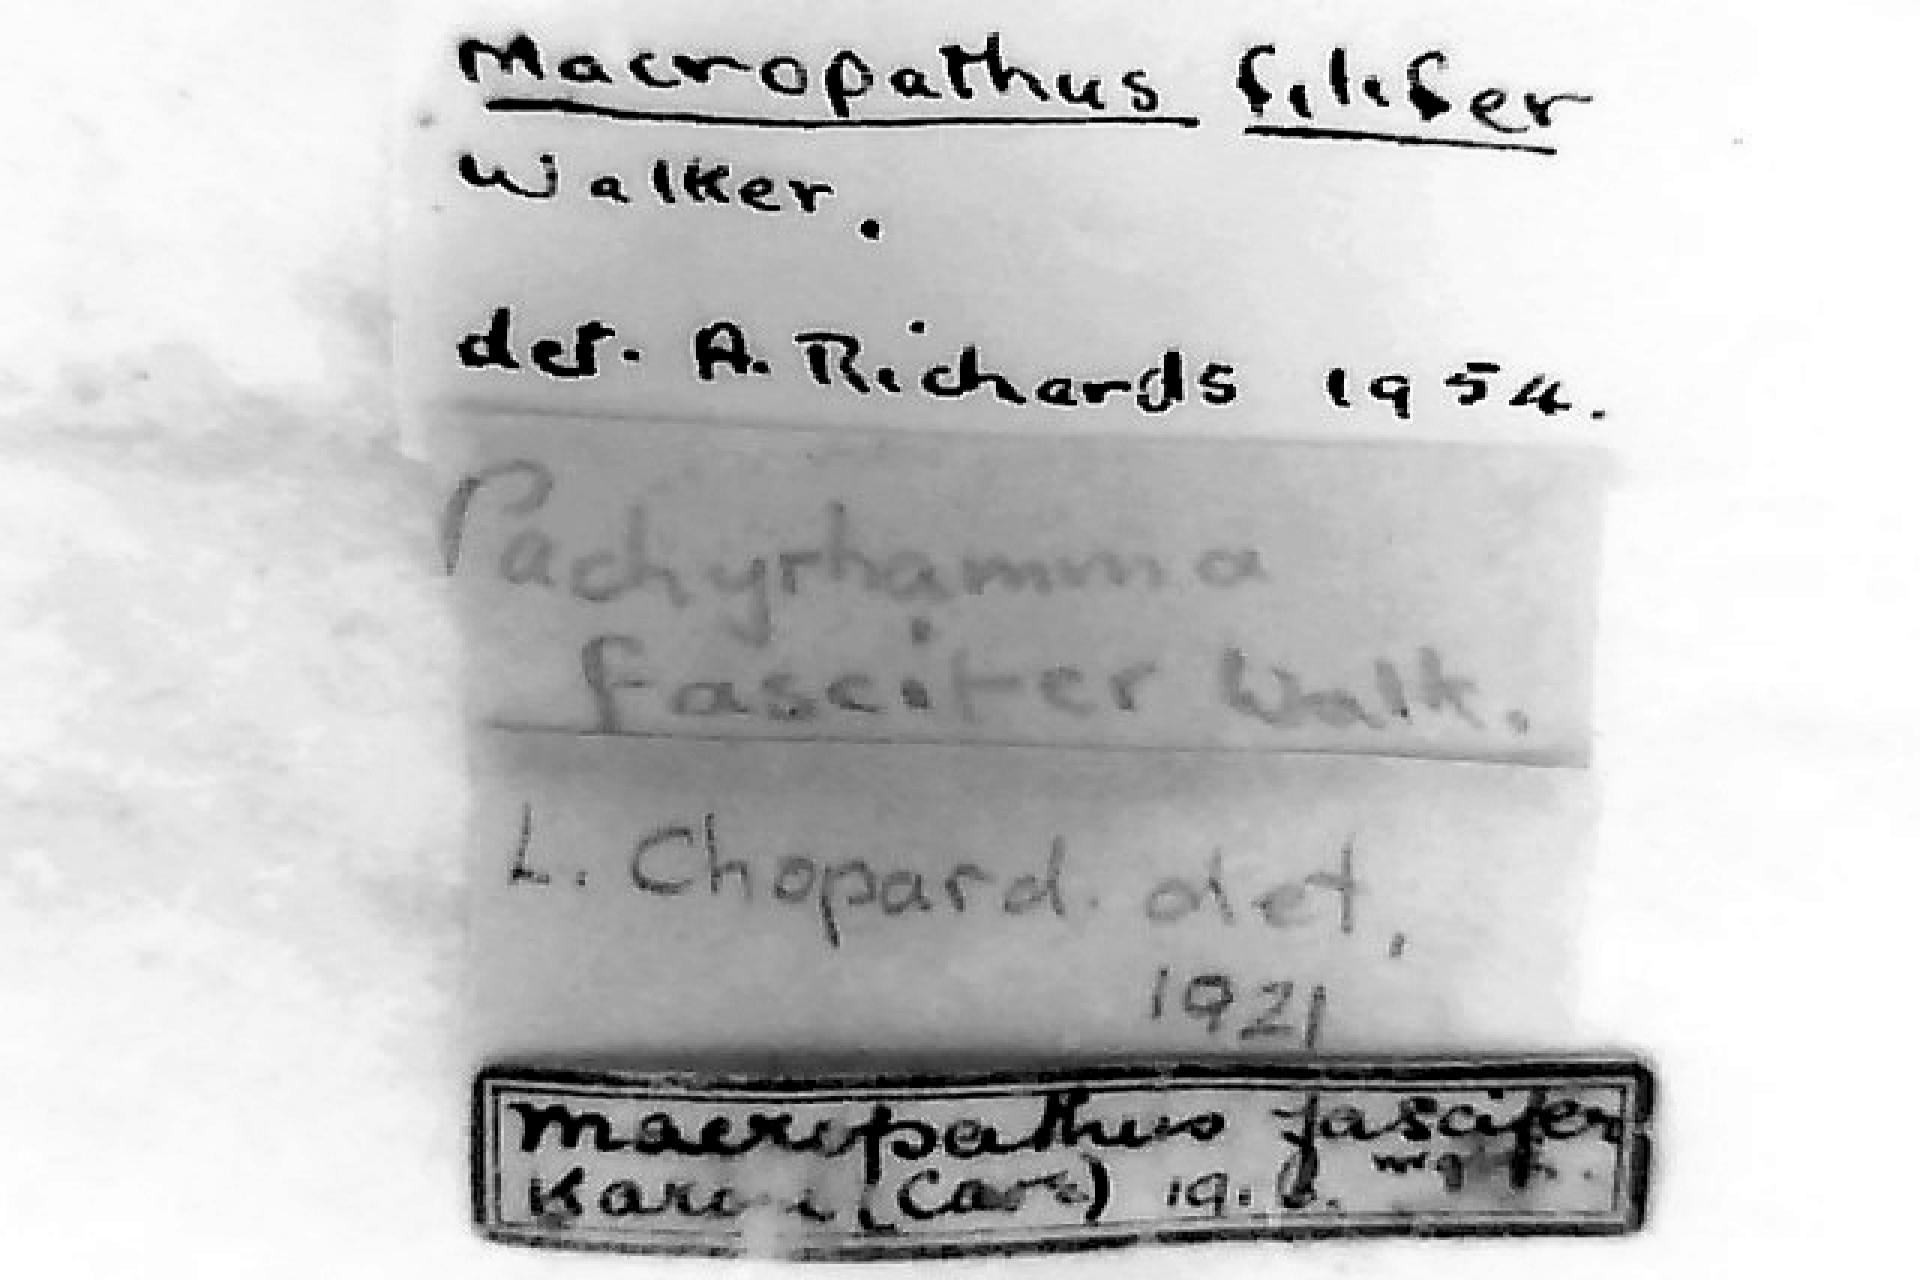hand_label: (398, 7, 1624, 445), (435, 410, 1605, 765), (469, 732, 1594, 1068), (472, 1057, 1654, 1258)
